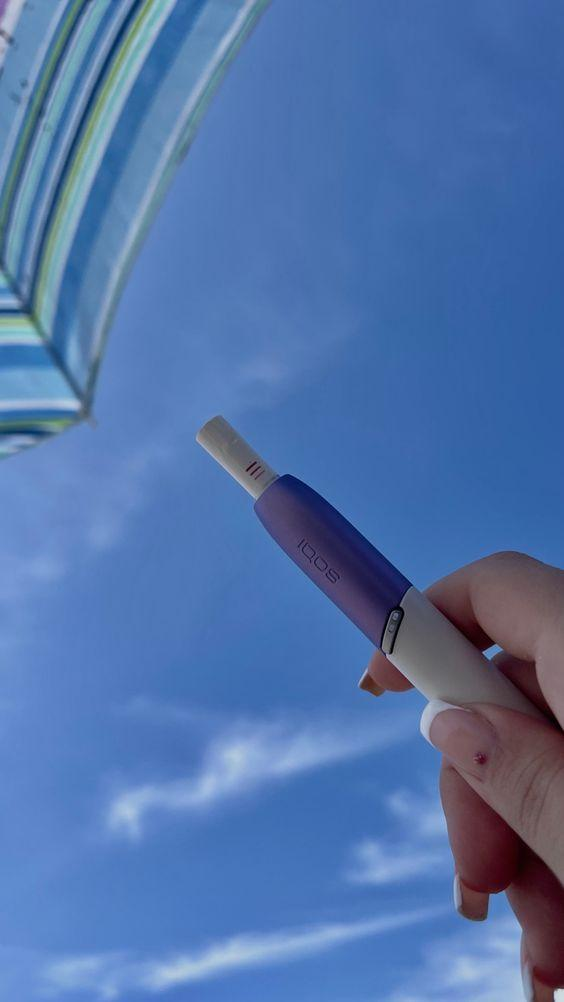iqos: (196, 414, 554, 724)
